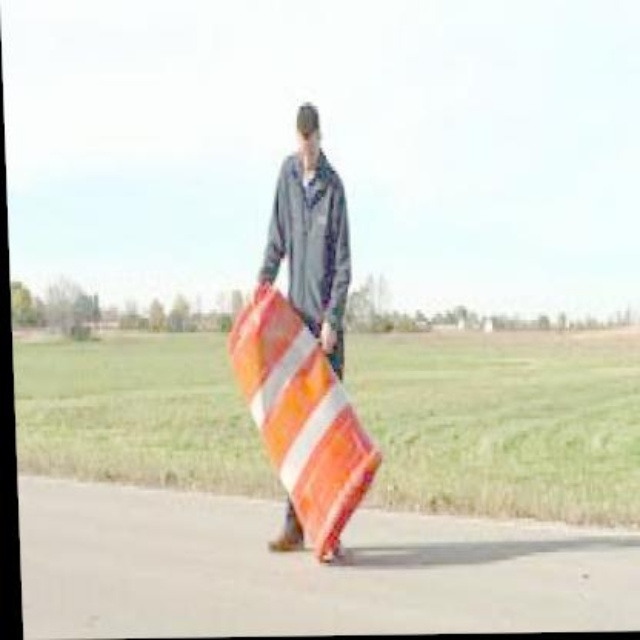obstacle: (223, 286, 377, 577)
